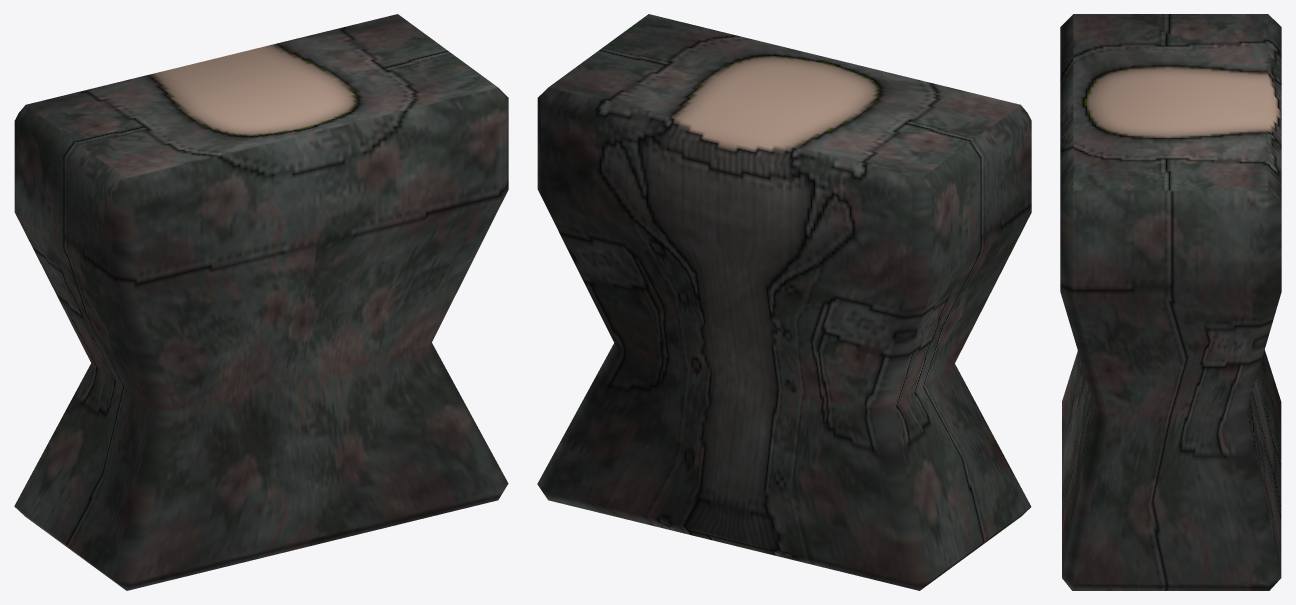
File: ssvean_torso.obj
3 renders of one model, left to right at view 1: azimuth 30°, elevation 25°; view 2: azimuth 150°, elevation 25°; view 3: azimuth 270°, elevation 25°, orthographic. The views are drawn at different scales.
Parts seen in each view (by area): view 1: Ssvean1; view 2: Ssvean1; view 3: Ssvean1.
Boxes of the visible parts, x1,y1,x2,y2 form: Ssvean1: (14, 14, 508, 590); Ssvean1: (537, 14, 1031, 590); Ssvean1: (1060, 14, 1281, 590).
Size of the model in its own units: 2 by 2 by 1.
1 material, 1 textured.
